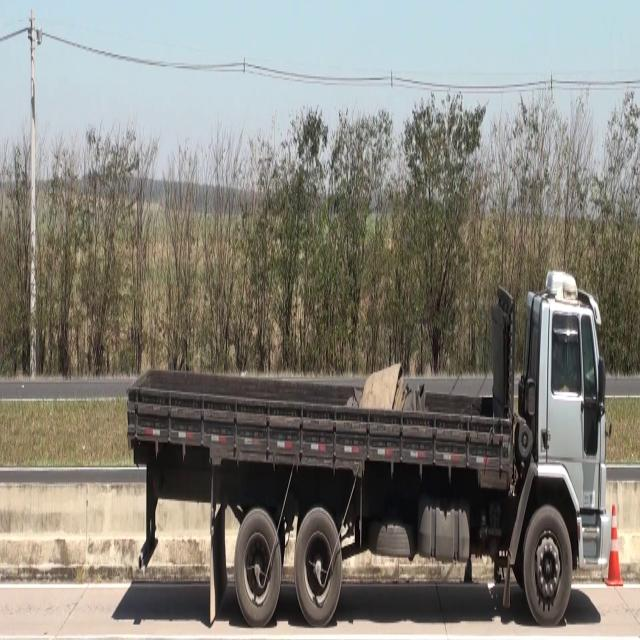-axle: (524, 502, 572, 624), (294, 505, 343, 624), (235, 507, 280, 628)
